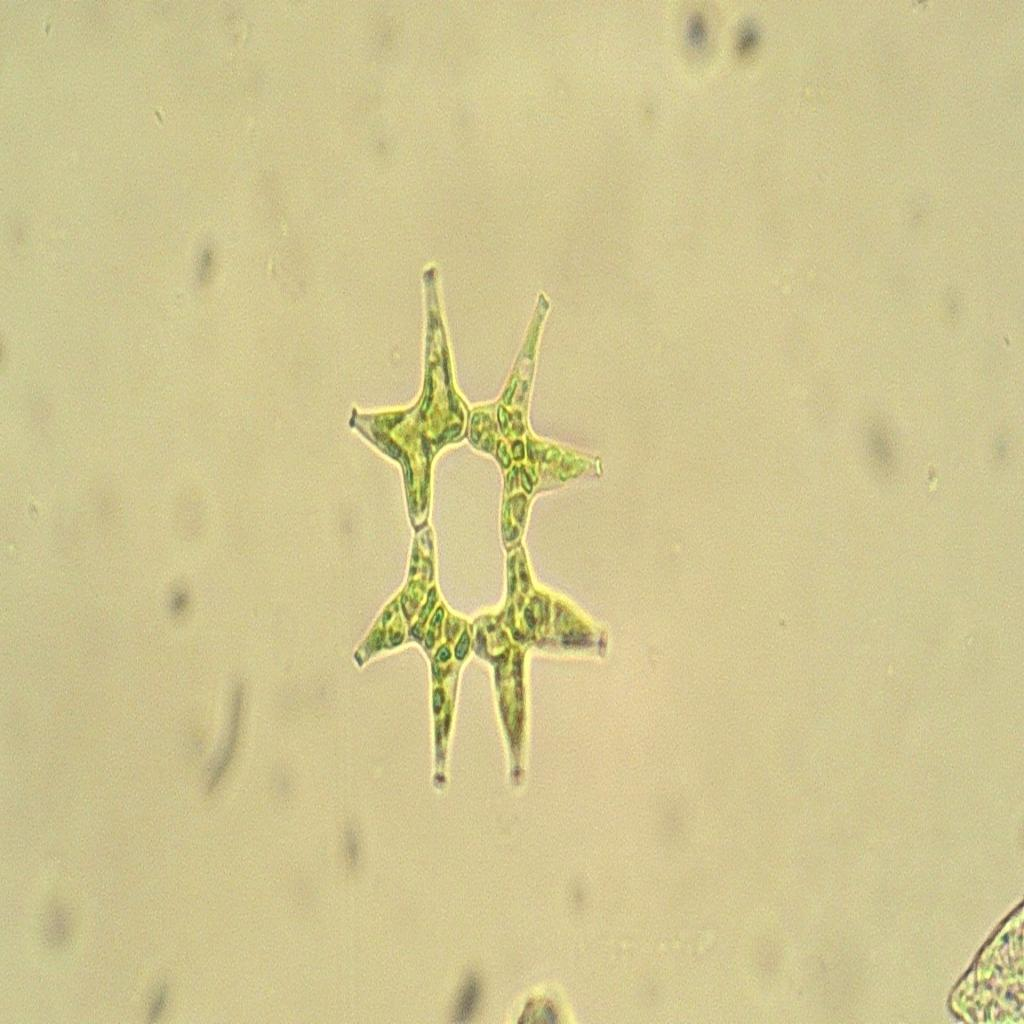Pediastrum_10: (320, 241, 636, 807)
